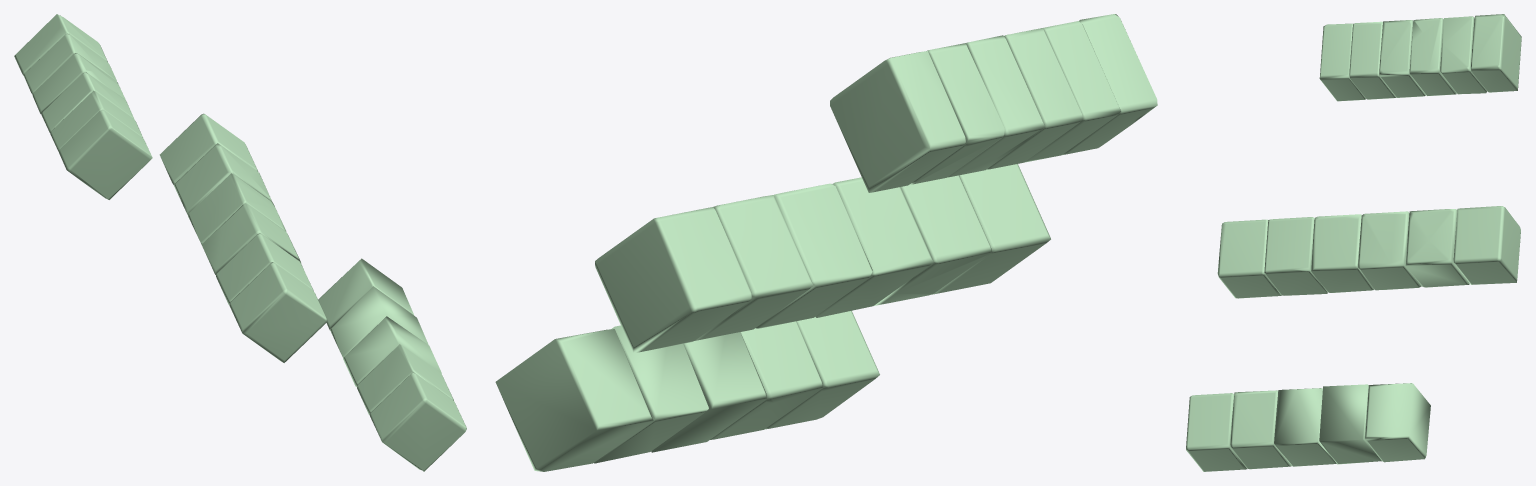
File: VHM_Spleen_Extraction_Sites_1x6.glb
3 renders of one model, left to right at view 1: azimuth 30°, elevation 25°; view 2: azimuth 150°, elevation 25°; view 3: azimuth 270°, elevation 25°, orthographic. The views are drawn at different scales.
Visible parts, largest first — view 1: CC2_1_1x6, CC3_2_1x6, CC1_1_1x6, CC2_6_1x6, CC2_5_1x6, CC2_3_1x6, CC2_4_1x6, CC3_5_1x6, CC2_2_1x6, CC3_4_1x6, CC3_3_1x6, CC3_6_1x6 (+5 smaller); view 2: CC2_6_1x6, CC3_6_1x6, CC1_6_1x6, CC2_4_1x6, CC2_5_1x6, CC2_3_1x6, CC2_2_1x6, CC2_1_1x6, CC3_4_1x6, CC3_5_1x6, CC3_3_1x6, CC3_2_1x6 (+5 smaller); view 3: CC2_6_1x6, CC3_6_1x6, CC2_5_1x6, CC2_4_1x6, CC2_3_1x6, CC2_2_1x6, CC2_1_1x6, CC3_5_1x6, CC3_4_1x6, CC3_3_1x6, CC3_2_1x6, CC1_6_1x6 (+5 smaller).
Boxes of the visible parts, left/top/right/bottom form: CC2_1_1x6: left=229, top=262, right=327, bottom=362; CC3_2_1x6: left=369, top=373, right=466, bottom=471; CC1_1_1x6: left=59, top=110, right=152, bottom=199; CC2_6_1x6: left=159, top=113, right=258, bottom=184; CC2_5_1x6: left=173, top=143, right=272, bottom=214; CC2_3_1x6: left=202, top=203, right=300, bottom=274; CC2_4_1x6: left=188, top=173, right=286, bottom=244; CC3_5_1x6: left=330, top=286, right=428, bottom=357; CC2_2_1x6: left=216, top=233, right=313, bottom=305; CC3_4_1x6: left=343, top=316, right=441, bottom=386; CC3_3_1x6: left=357, top=344, right=453, bottom=414; CC3_6_1x6: left=318, top=258, right=414, bottom=329; CC2_6_1x6: left=595, top=207, right=752, bottom=353; CC3_6_1x6: left=495, top=329, right=653, bottom=471; CC1_6_1x6: left=830, top=51, right=966, bottom=192; CC2_4_1x6: left=756, top=183, right=872, bottom=328; CC2_5_1x6: left=695, top=195, right=813, bottom=340; CC2_3_1x6: left=815, top=177, right=933, bottom=317; CC2_2_1x6: left=874, top=175, right=992, bottom=305; CC2_1_1x6: left=932, top=164, right=1050, bottom=294; CC3_4_1x6: left=651, top=332, right=766, bottom=452; CC3_5_1x6: left=594, top=325, right=708, bottom=463; CC3_3_1x6: left=710, top=321, right=823, bottom=439; CC3_2_1x6: left=764, top=310, right=879, bottom=429; CC2_6_1x6: left=1453, top=206, right=1520, bottom=284; CC3_6_1x6: left=1364, top=383, right=1430, bottom=462; CC2_5_1x6: left=1405, top=209, right=1469, bottom=287; CC2_4_1x6: left=1357, top=211, right=1421, bottom=290; CC2_3_1x6: left=1311, top=214, right=1374, bottom=292; CC2_2_1x6: left=1264, top=217, right=1327, bottom=295; CC2_1_1x6: left=1217, top=219, right=1281, bottom=298; CC3_5_1x6: left=1319, top=384, right=1381, bottom=464; CC3_4_1x6: left=1274, top=388, right=1336, bottom=466; CC3_3_1x6: left=1230, top=390, right=1291, bottom=469; CC3_2_1x6: left=1186, top=393, right=1246, bottom=471; CC1_6_1x6: left=1470, top=14, right=1521, bottom=92.
Size of the model in its own units: 0.0734 by 0.0736 by 0.0615.
